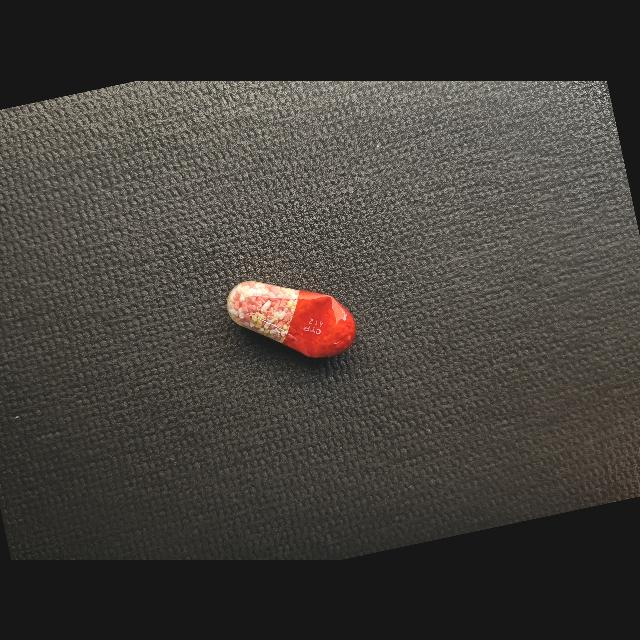Defective Capsule: (226, 280, 356, 357)
